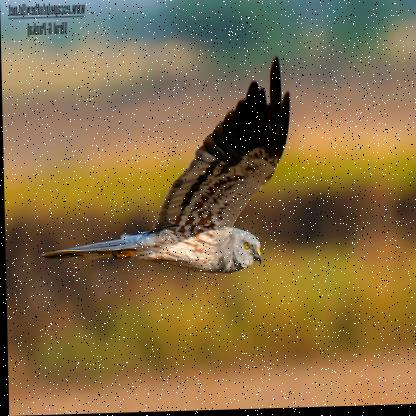Burung: (34, 58, 307, 281)
